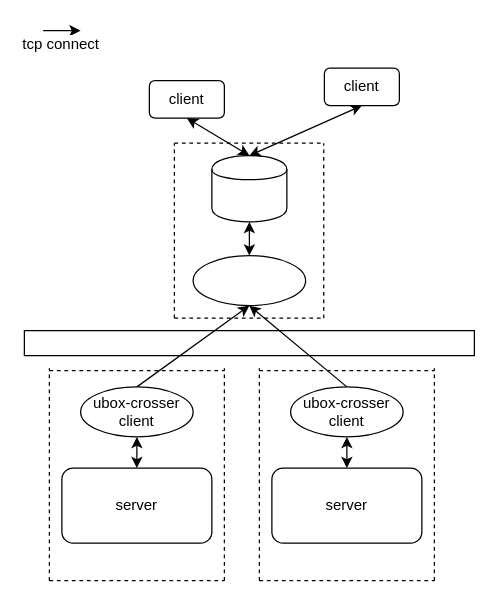
The diagram is 496 pixels wide and 604 high, and some of its shapes have lost their labels. Each missing label, with the centre of its shape:
"FireWall" belongs at (248,342).
"proxy server" belongs at (249,188).
"ubox-crosser server" belongs at (249,280).
